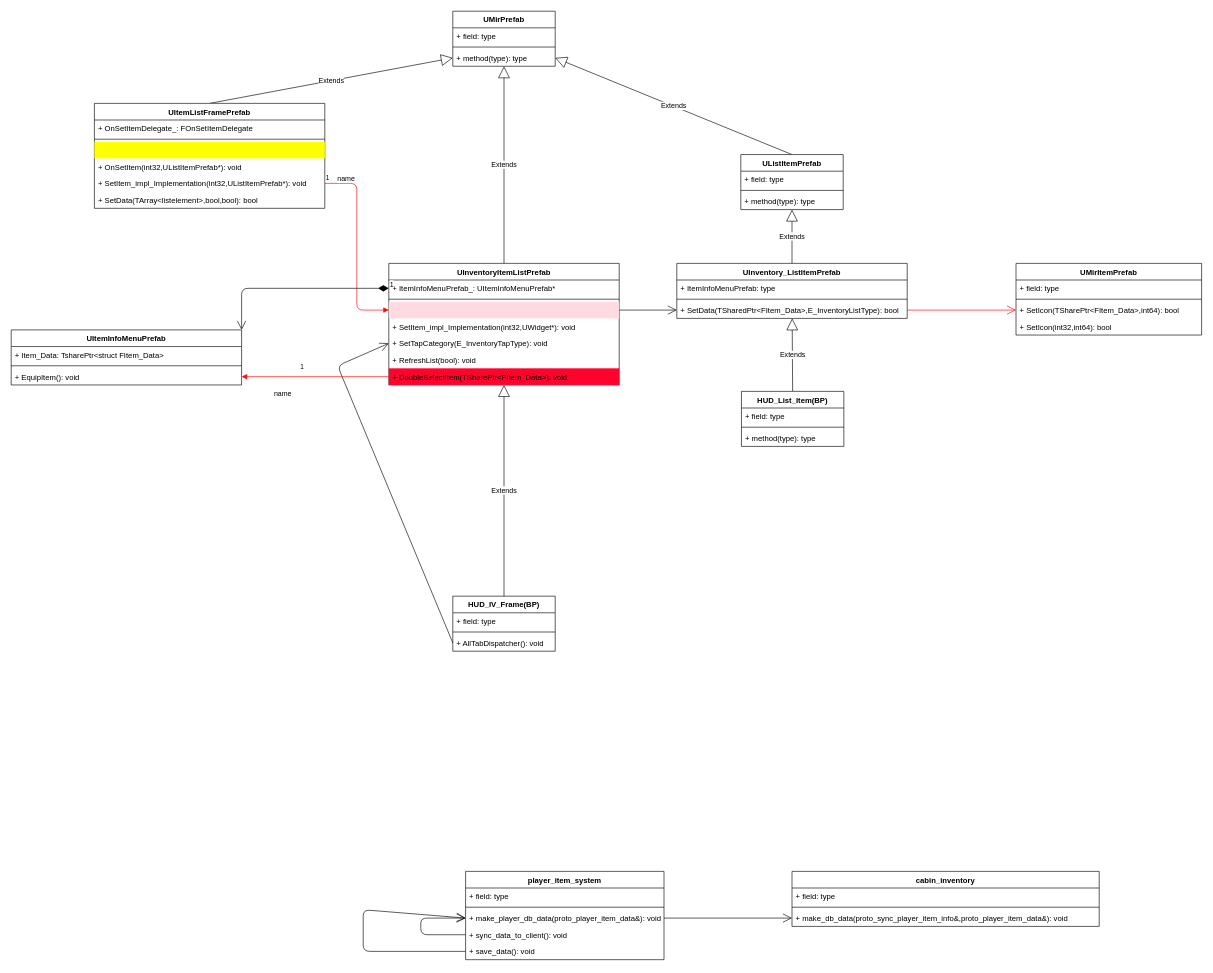
Image size: 1213x973. Some labels were removed from this diagram. Here are the shapes that lost their labels. From the top down, the centre of each, then its label:
(209,149): + OnScrollBoxInitComplete_Implementation(): void
(503,309): + OnSetItem_Implementation(int32,UListItemPrefab*): void
